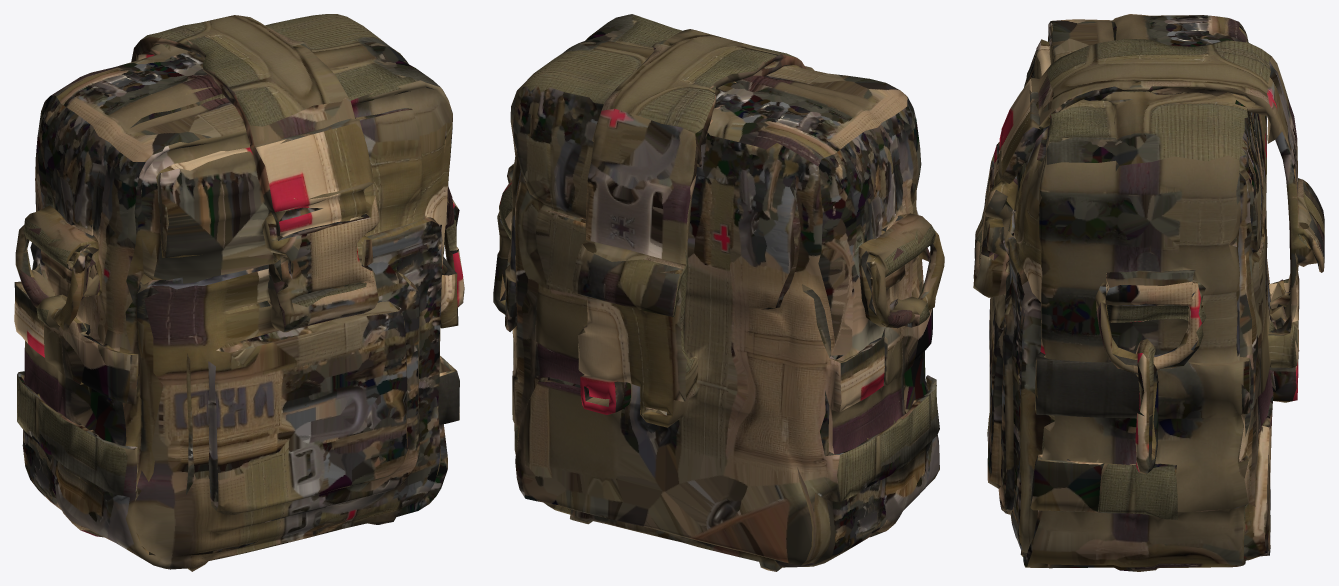
File: MedicalKitBag.obj
The picture shows the model from 3 angles, left to right: view 1: azimuth 30°, elevation 25°; view 2: azimuth 150°, elevation 25°; view 3: azimuth 270°, elevation 25°; orthographic projection. The views are drawn at different scales.
Parts seen in each view (by area): view 1: MedicalKitBag; view 2: MedicalKitBag; view 3: MedicalKitBag.
Part boxes in pixels (x1,y1,x2,y2): MedicalKitBag: (14, 14, 464, 571); MedicalKitBag: (493, 14, 944, 571); MedicalKitBag: (973, 14, 1324, 571).
Size of the model in its own units: 2 by 2 by 1.4.
1 material, 1 textured.
